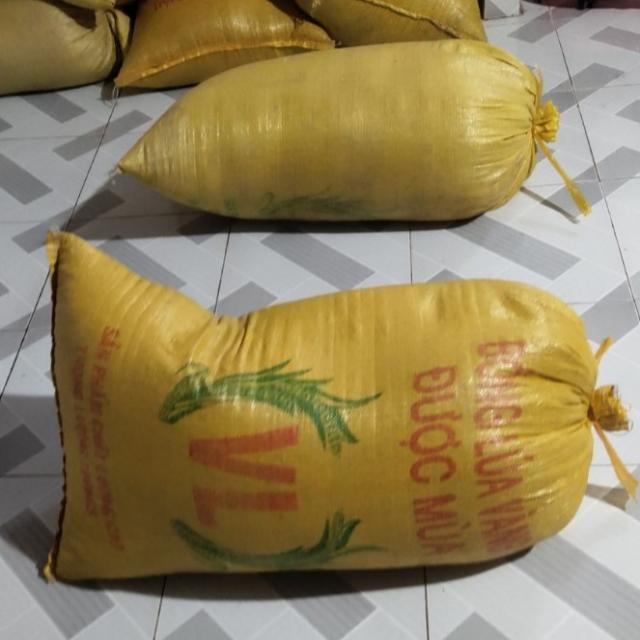gunny_bag: (47, 234, 628, 581), (119, 38, 556, 221)
